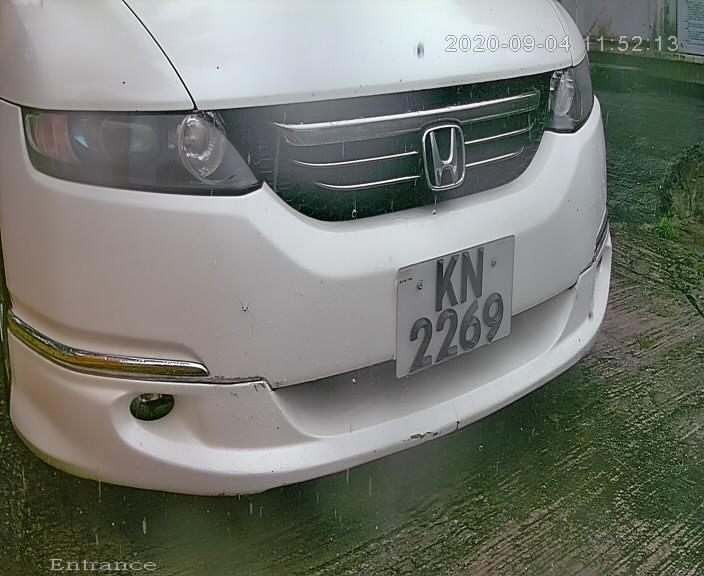License Plate: (382, 203, 535, 400)
